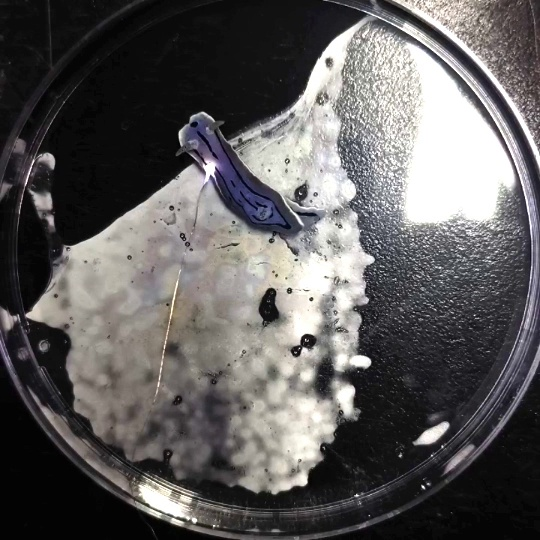sea-slug: (96, 101, 290, 227)
